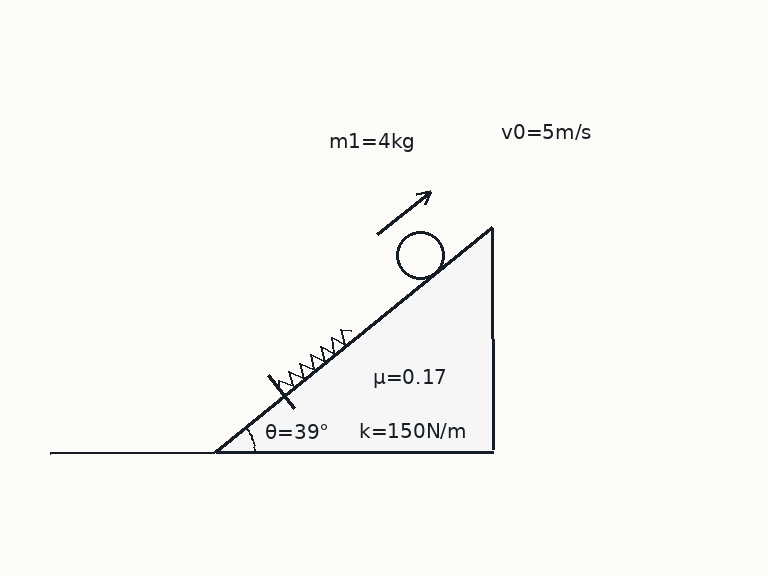ball: (394, 229, 446, 281)
ramp: (213, 225, 494, 454)
spring: (277, 327, 353, 391)
